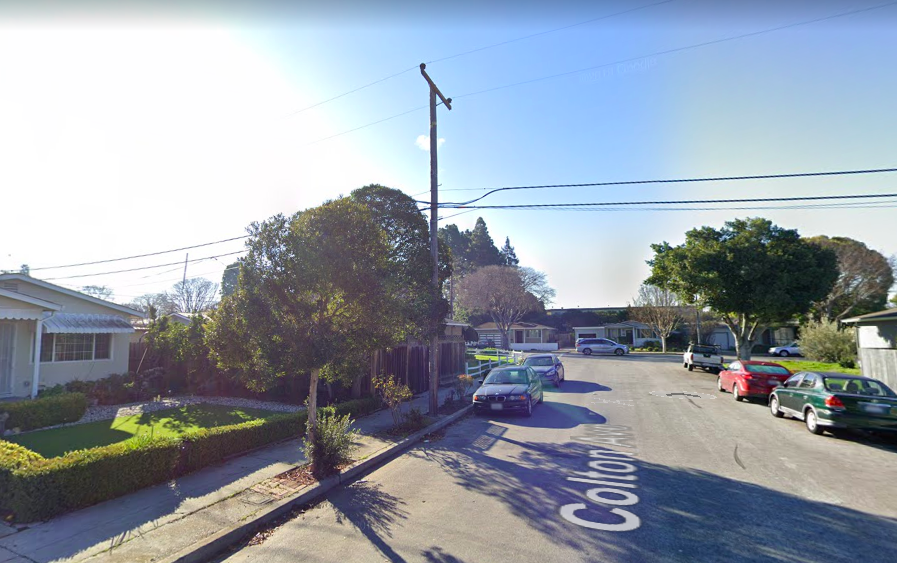tree: (202, 196, 418, 452), (643, 214, 843, 361)
utility_pole: (402, 51, 460, 138)
